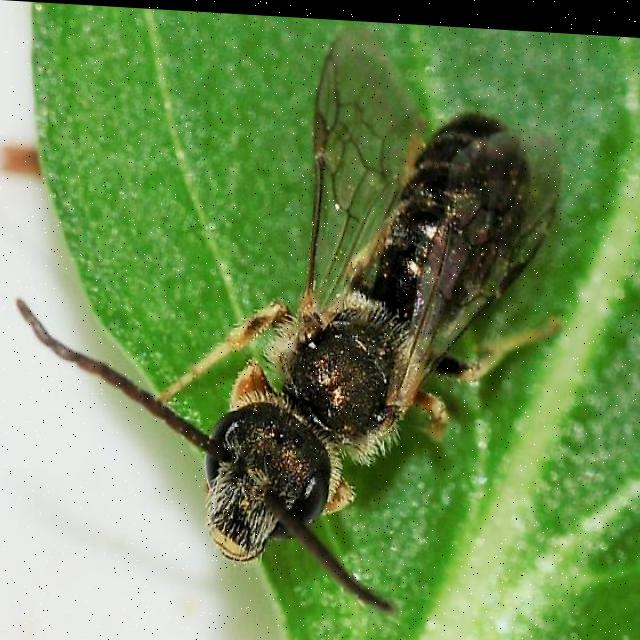Seladonia: (13, 5, 581, 632)
